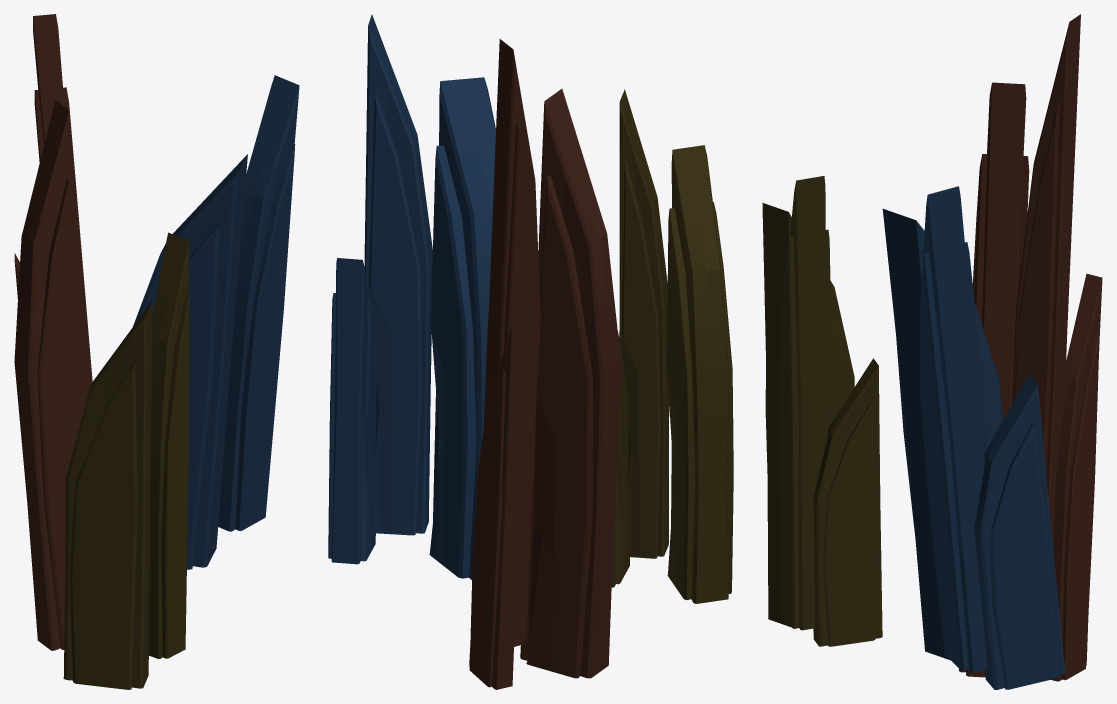
File: StagCluster00C_ID.fbx
3 renders of one model, left to right at view 1: azimuth 30°, elevation 25°; view 2: azimuth 150°, elevation 25°; view 3: azimuth 270°, elevation 25°, orthographic. The views are drawn at different scales.
Visible parts, largest first — view 1: RocksStag_Cluster1; view 2: RocksStag_Cluster1; view 3: RocksStag_Cluster1.
Boxes of the visible parts, x1,y1,x2,y2 form: RocksStag_Cluster1: (14,14,299,689); RocksStag_Cluster1: (328,14,733,689); RocksStag_Cluster1: (762,14,1102,689).
Size of the model in its own units: 6.4 by 12.94 by 6.09.
